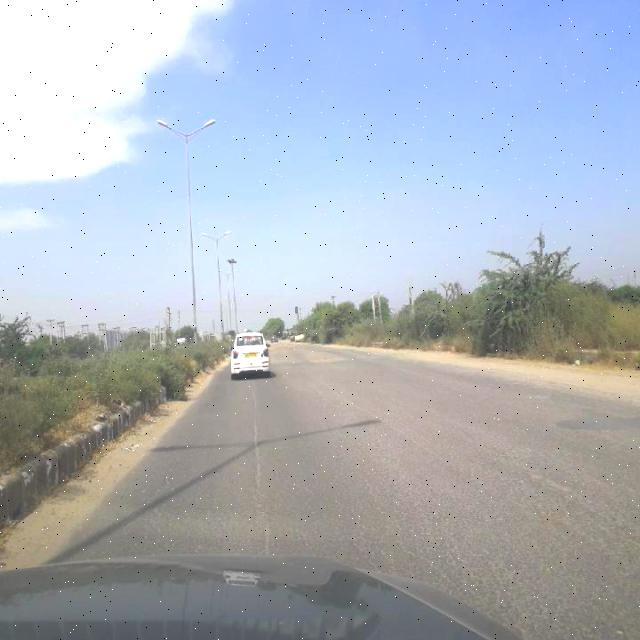D00: (238, 381, 276, 543)
